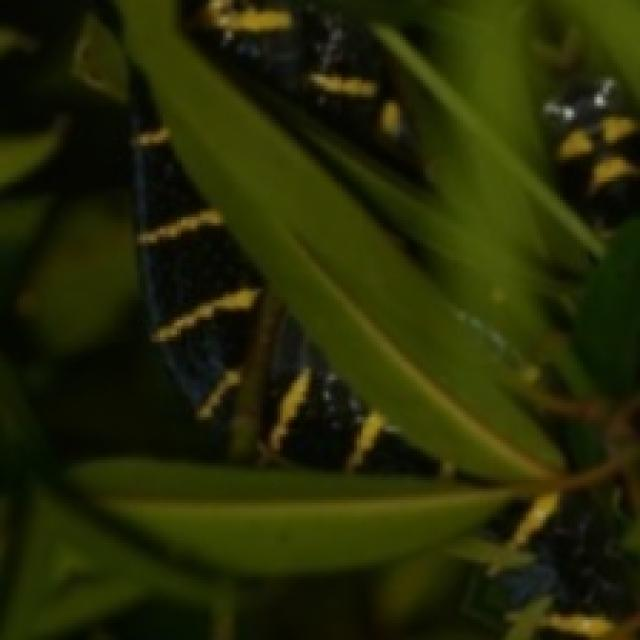mangrove cat snake: (131, 76, 265, 438), (185, 0, 419, 174), (261, 313, 454, 476), (481, 481, 640, 640)
